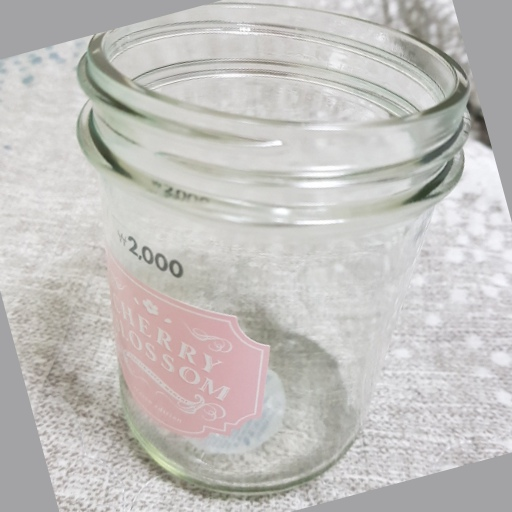Glass_5: (78, 3, 467, 487)
